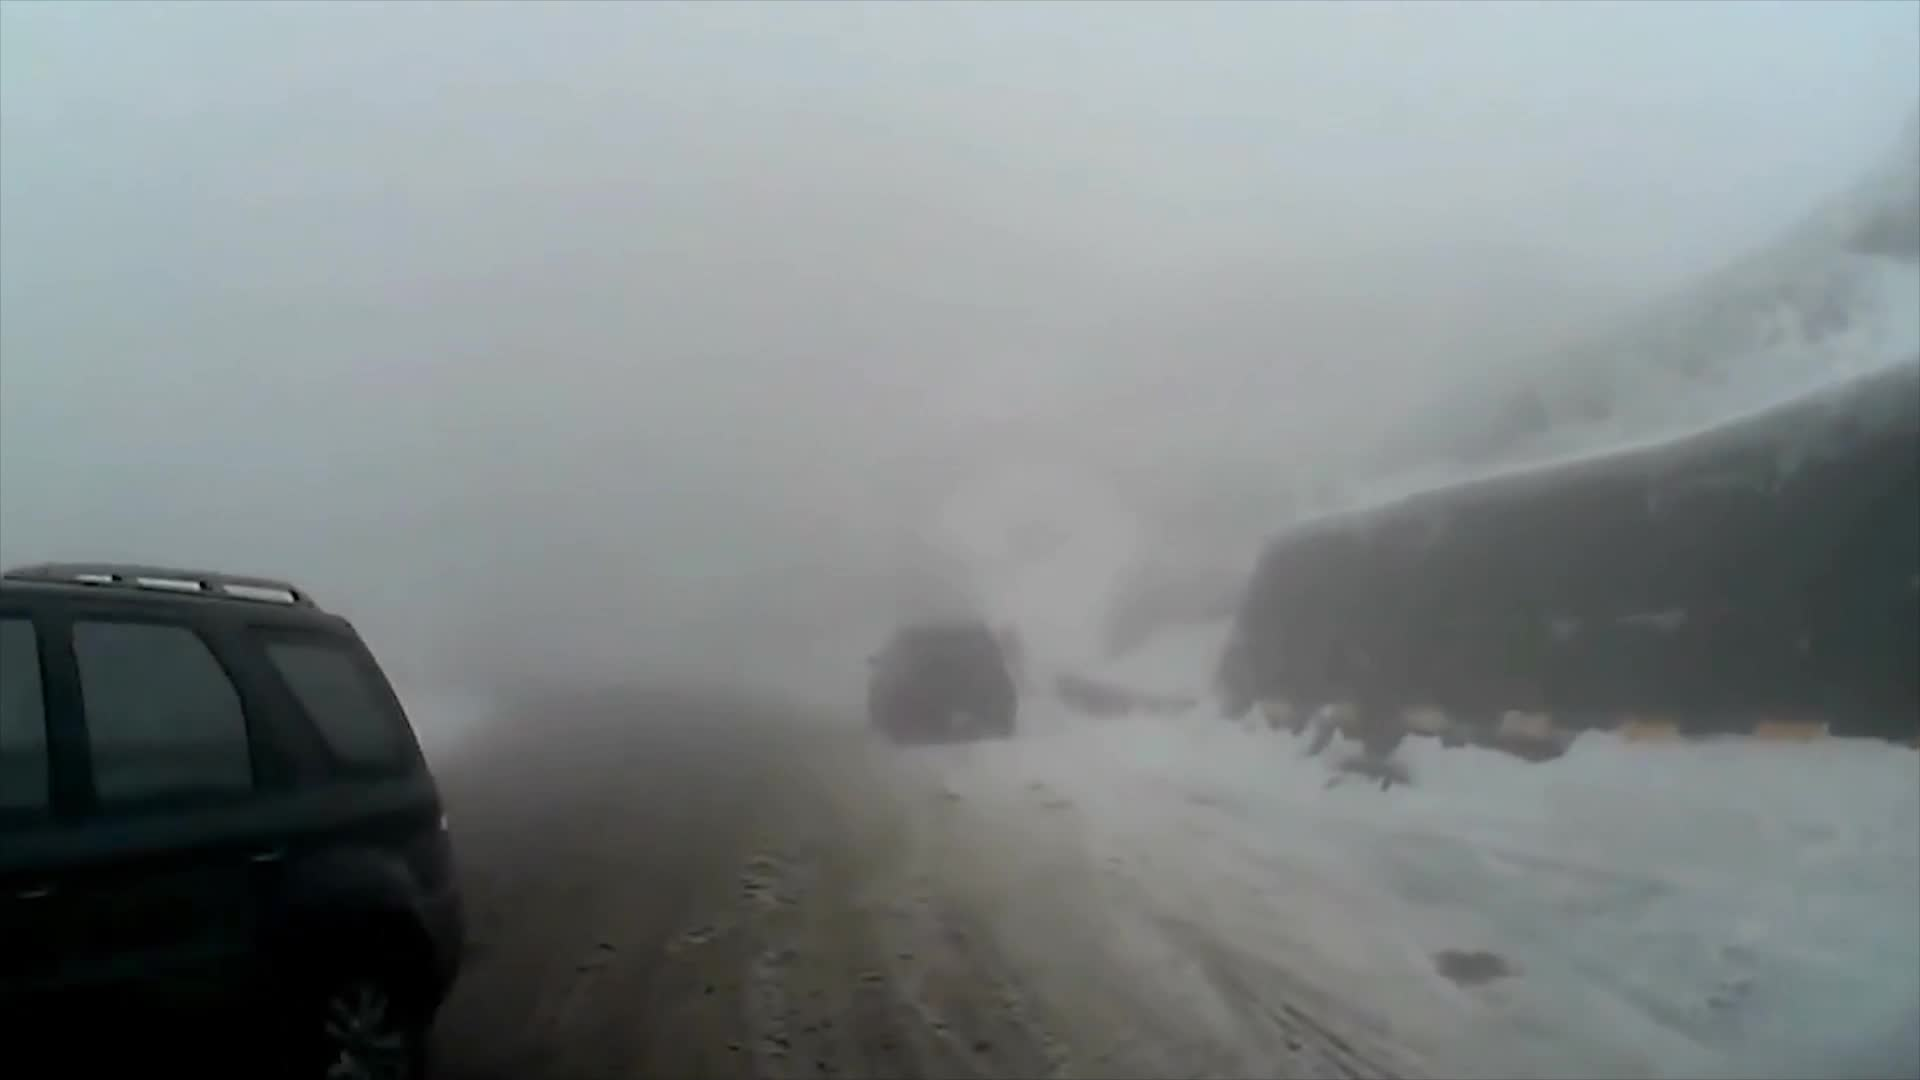vehicle: (0, 559, 469, 1073), (862, 615, 1015, 745)
